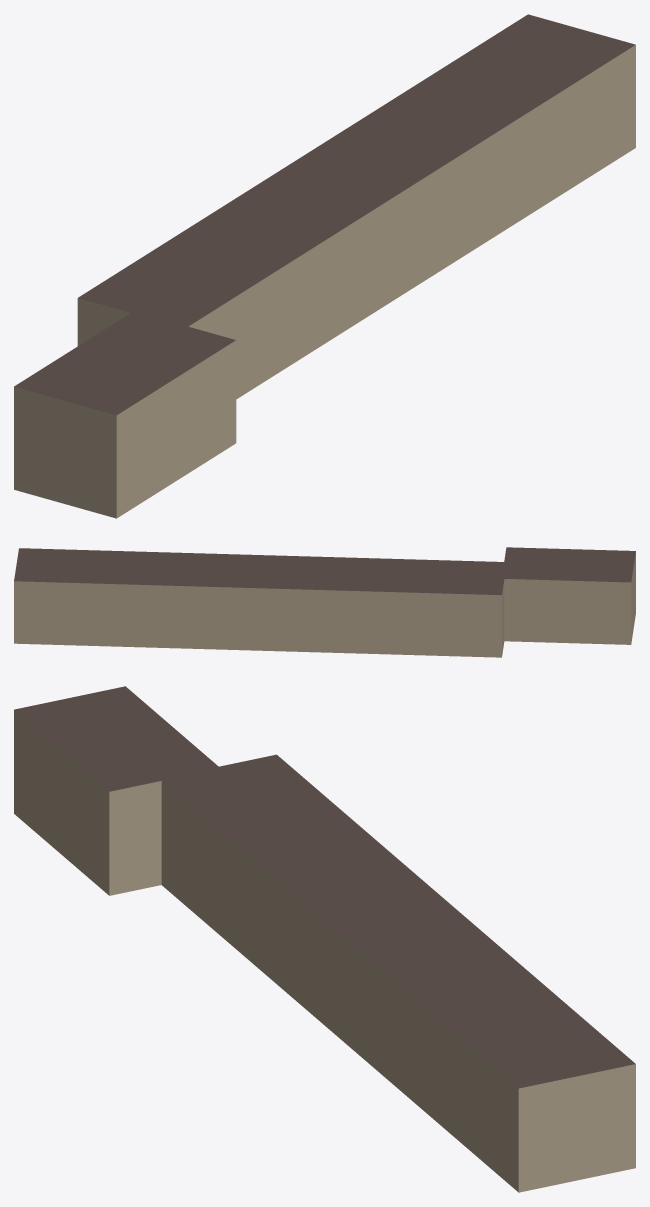
3 views of the same model, one above another, from view 1: azimuth 30°, elevation 25°; view 2: azimuth 150°, elevation 25°; view 3: azimuth 270°, elevation 25° (orthographic). The views are drawn at different scales.
Parts seen in each view (by area): view 1: HP-w299011346; view 2: HP-w299011346; view 3: HP-w299011346.
Boxes of the visible parts, bbox=[...] form: HP-w299011346: bbox=[14, 14, 635, 518]; HP-w299011346: bbox=[14, 547, 635, 657]; HP-w299011346: bbox=[14, 686, 635, 1192].
Bounding box in the file's own units: 74.54 × 9 × 48.71.
